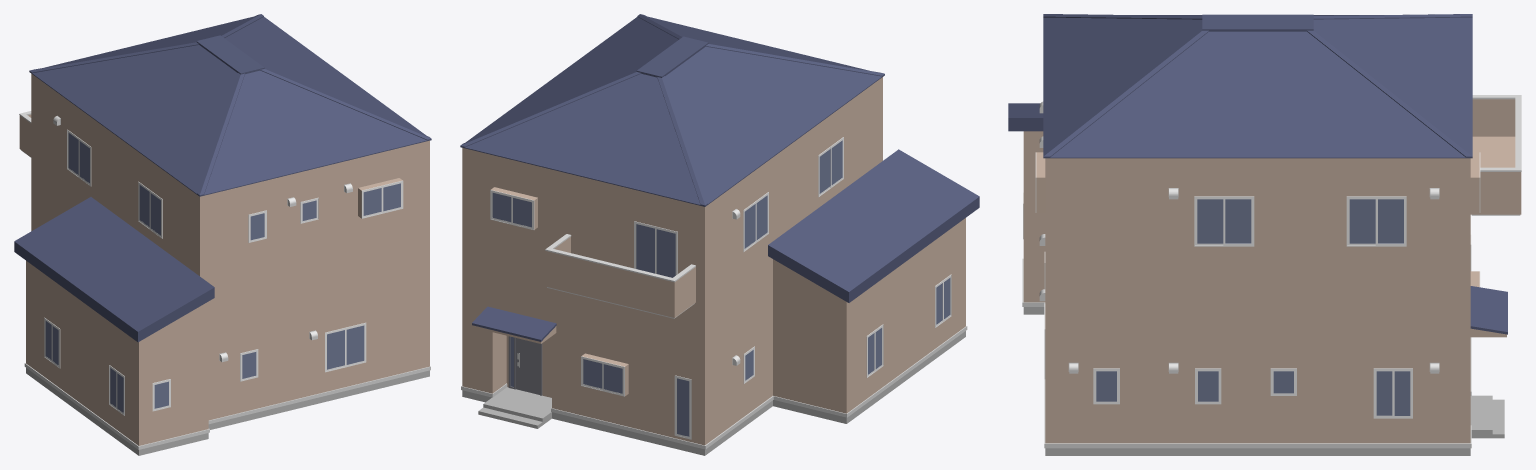
Rendered from MobHouse76.fbx.
3 renders of one model, left to right at view 1: azimuth 30°, elevation 25°; view 2: azimuth 150°, elevation 25°; view 3: azimuth 270°, elevation 25°, orthographic. The views are drawn at different scales.
Parts seen in each view (by area): view 1: Flat_half_house02.035; view 2: Flat_half_house02.035; view 3: Flat_half_house02.035.
Part boxes in pixels (x1=…): Flat_half_house02.035: x1=14, y1=14, x2=431, y2=455; Flat_half_house02.035: x1=460, y1=14, x2=979, y2=455; Flat_half_house02.035: x1=1008, y1=14, x2=1521, y2=455.
Bounding box in the file's own units: 9.76 × 8.66 × 11.09.
